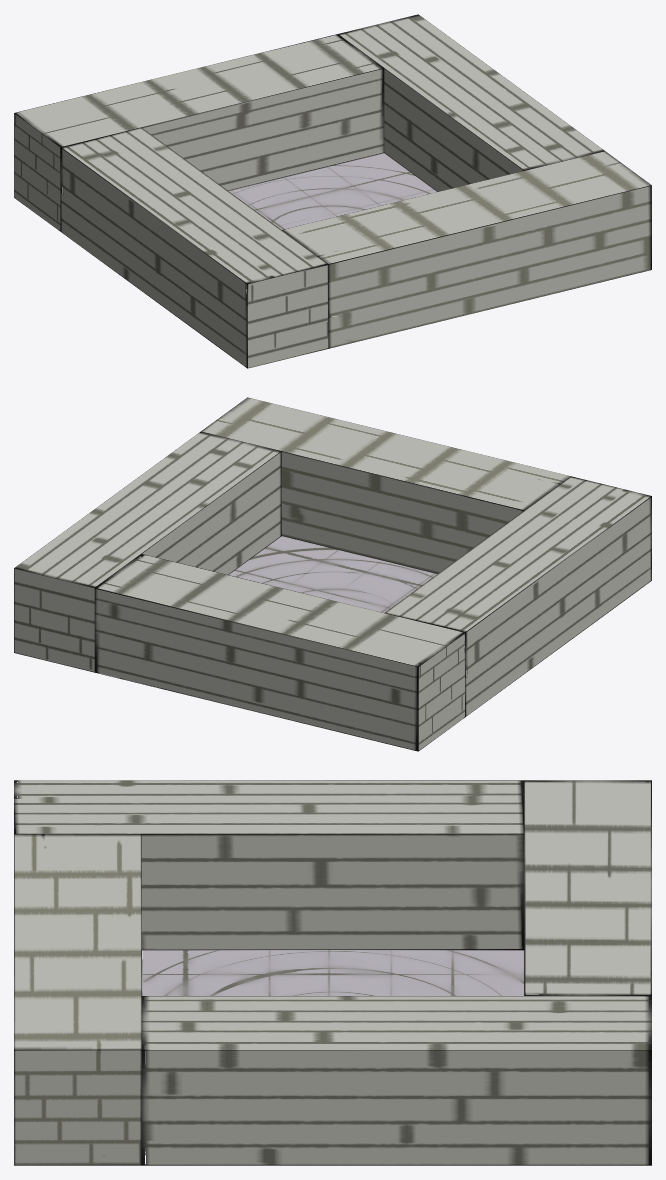
The model's file is Colosseum.obj.
3 renders of one model, top to bottom at view 1: azimuth 30°, elevation 25°; view 2: azimuth 150°, elevation 25°; view 3: azimuth 270°, elevation 25°, orthographic. The views are drawn at different scales.
Parts seen in each view (by area): view 1: 壁手前_立方体.005, 壁左_立方体.009, 壁奥_立方体.013, 壁右_立方体.004, 床_平面; view 2: 壁奥_立方体.013, 壁手前_立方体.005, 壁左_立方体.009, 壁右_立方体.004, 床_平面; view 3: 壁右_立方体.004, 壁左_立方体.009, 壁手前_立方体.005, 壁奥_立方体.013, 床_平面.
Boxes of the visible parts, x1=… form: 壁手前_立方体.005: x1=282, y1=151, x2=651, y2=348; 壁左_立方体.009: x1=60, y1=127, x2=328, y2=368; 壁奥_立方体.013: x1=14, y1=34, x2=384, y2=231; 壁右_立方体.004: x1=338, y1=14, x2=604, y2=191; 床_平面: x1=229, y1=153, x2=436, y2=229; 壁奥_立方体.013: x1=95, y1=554, x2=465, y2=751; 壁手前_立方体.005: x1=201, y1=397, x2=570, y2=573; 壁左_立方体.009: x1=385, y1=476, x2=651, y2=716; 壁右_立方体.004: x1=14, y1=431, x2=281, y2=672; 床_平面: x1=229, y1=536, x2=436, y2=612; 壁右_立方体.004: x1=141, y1=996, x2=651, y2=1165; 壁左_立方体.009: x1=14, y1=780, x2=524, y2=949; 壁手前_立方体.005: x1=14, y1=834, x2=141, y2=1165; 壁奥_立方体.013: x1=524, y1=780, x2=651, y2=995; 床_平面: x1=141, y1=950, x2=524, y2=995.
Size of the model in its own units: 10 by 2 by 10.
5 materials, 5 textured.
